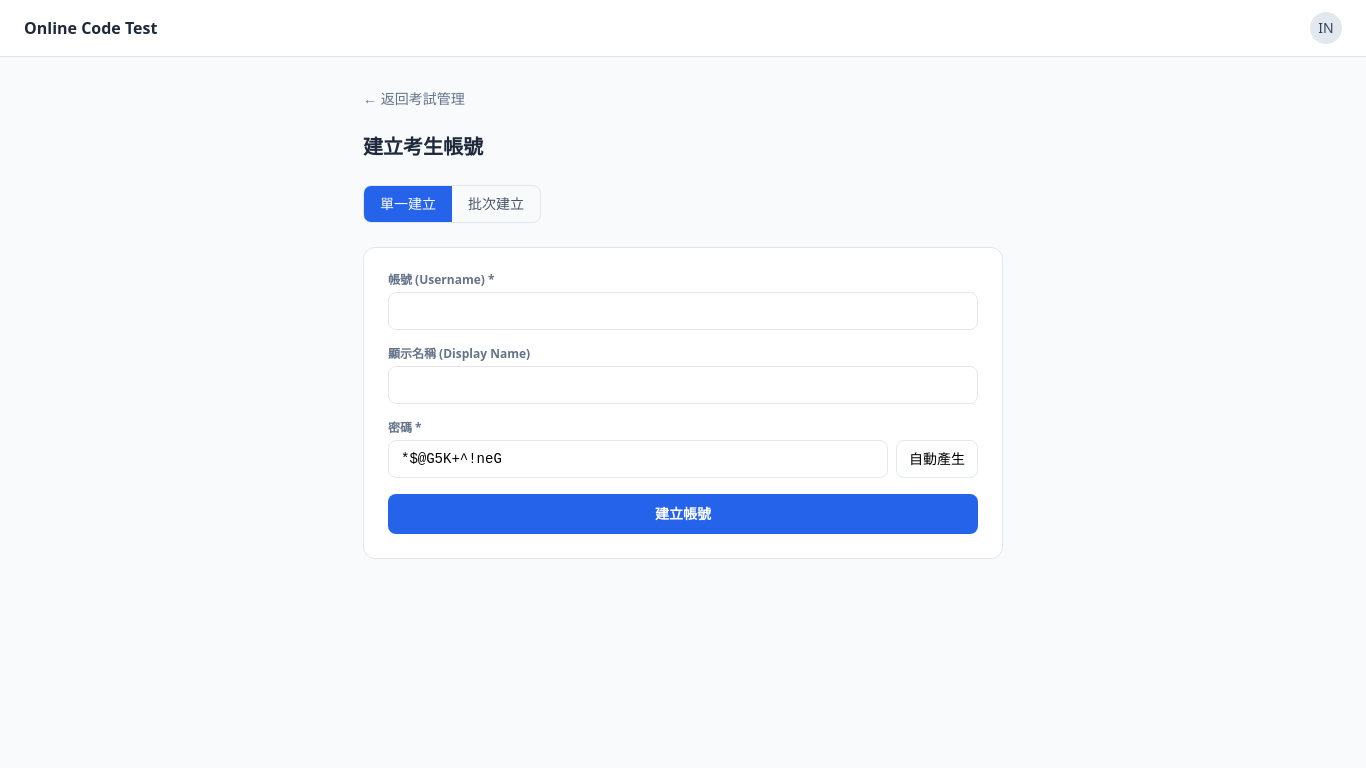
Test case: CandidateCreatePage() › does not navigate away automatically after success
The image size is (1366, 768).
Type "u1" into the field labelled "帳號".
click(683, 311); type("u1")  # box [388,292,978,330]
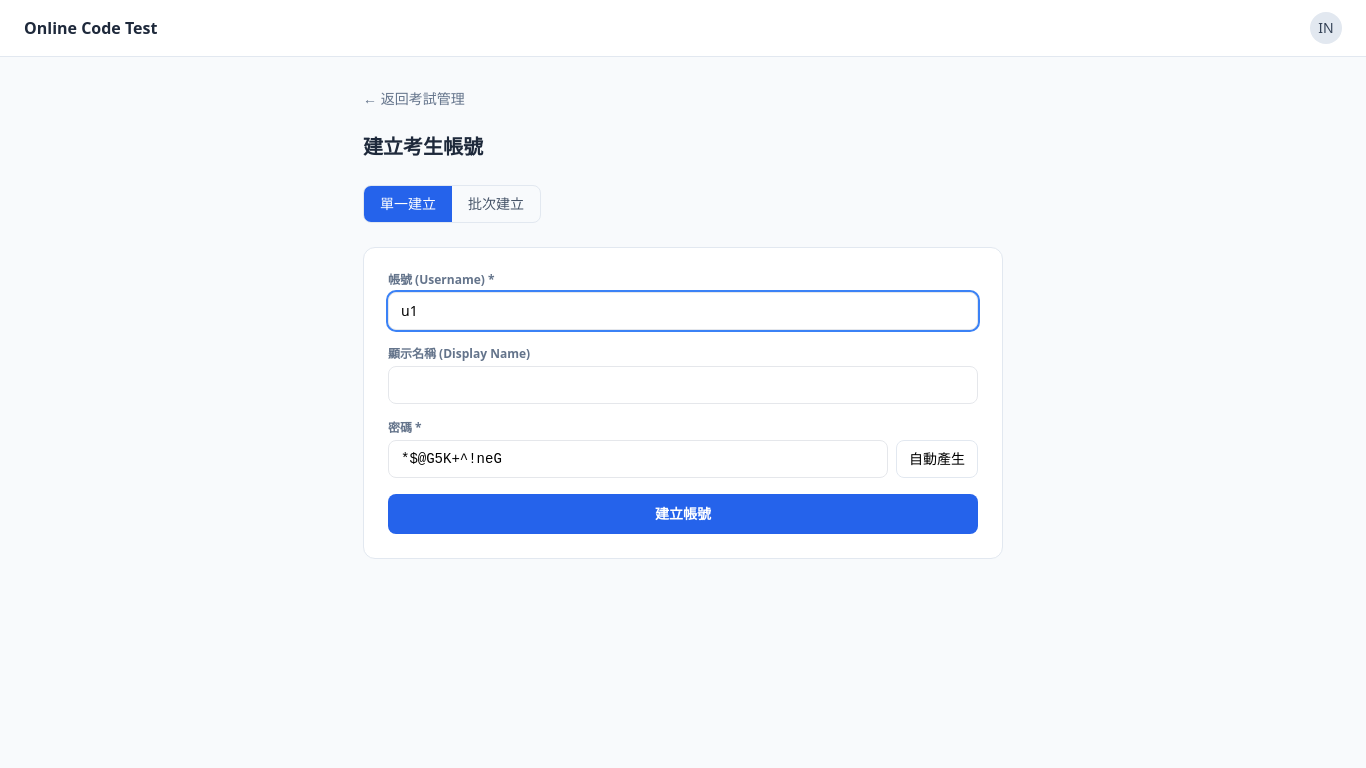
Click the button "建立帳號".
click(683, 514)  # box [388,494,978,534]
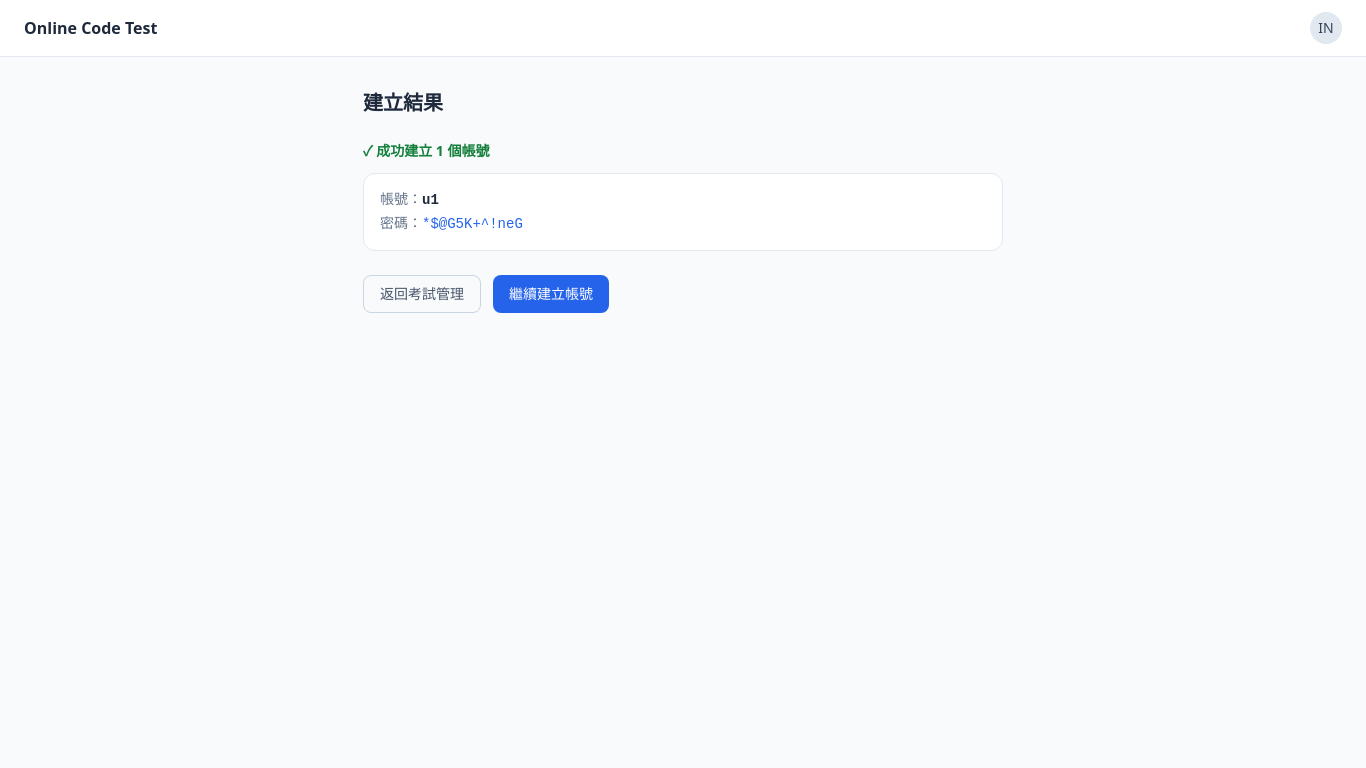
Now the heading "✓ 成功建立 1 個帳號" is shown, box [363,141,490,160]
